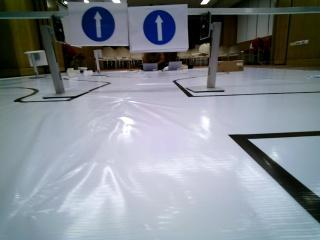straight: (66, 2, 126, 45), (129, 5, 186, 49)
